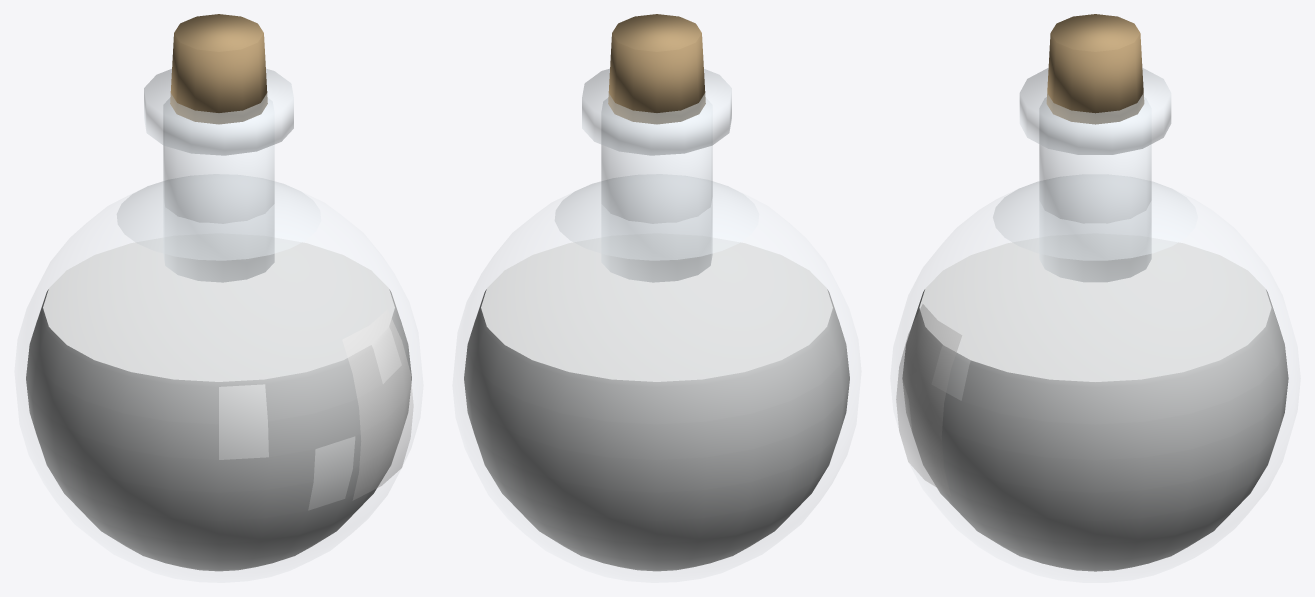
Rendered from Potion_Bottle.glb.
3 renders of one model, left to right at view 1: azimuth 30°, elevation 25°; view 2: azimuth 150°, elevation 25°; view 3: azimuth 270°, elevation 25°, orthographic.
Parts seen in each view (by area): view 1: PotionLiquidO, PotionGlassO, PotionCork; view 2: PotionLiquidO, PotionGlassO, PotionCork; view 3: PotionLiquidO, PotionGlassO, PotionCork.
Boxes of the visible parts, x1,y1,x2,y2 form: PotionLiquidO: (26,233,411,571); PotionGlassO: (116,68,413,500); PotionCork: (170,14,267,124); PotionLiquidO: (464,233,849,571); PotionGlassO: (554,68,759,282); PotionCork: (608,14,705,124); PotionLiquidO: (902,233,1288,571); PotionGlassO: (896,68,1197,496); PotionCork: (1046,14,1144,124).
Bounding box in the file's own units: 0.8339 × 1.2 × 0.84.
